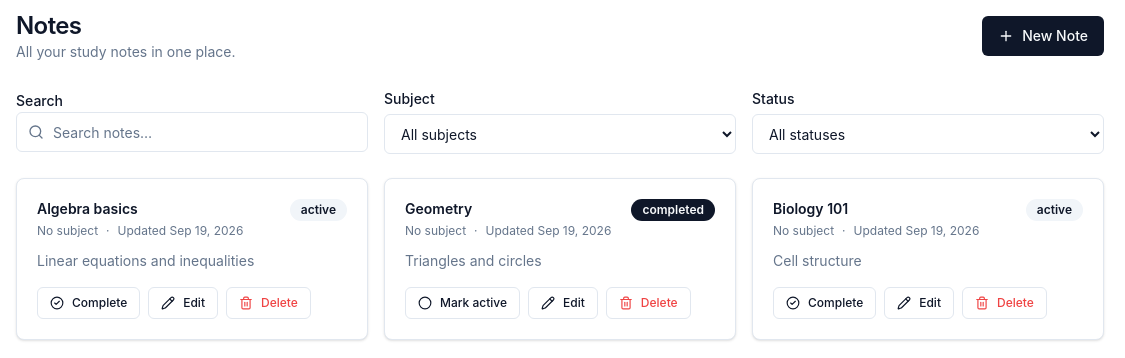
Test: Search and filters › filters notes by status
The width and height of the screenshot is (1125, 358).
Select "Completed" in the dropdown labelled "Status" at (928, 134), box [752,114,1104,154]
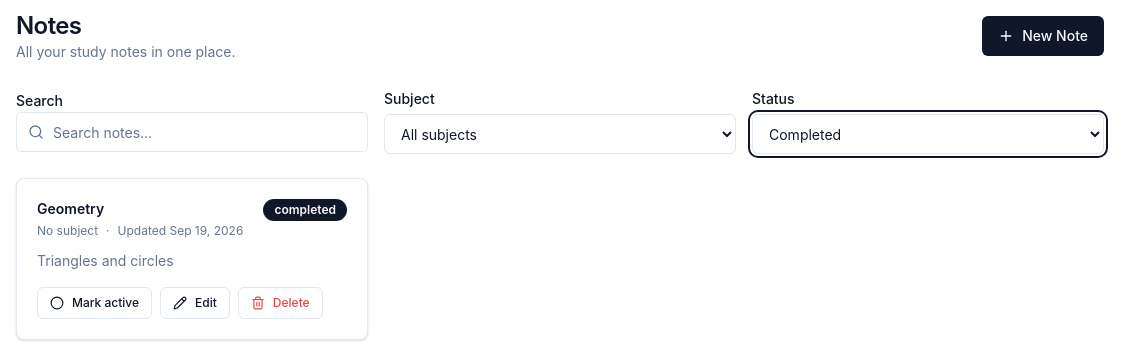
Check: the link "Geometry" is shown, box [37,200,104,217]
Check: the link "Algebra basics" is gone
Check: the link "Biology 101" is gone
